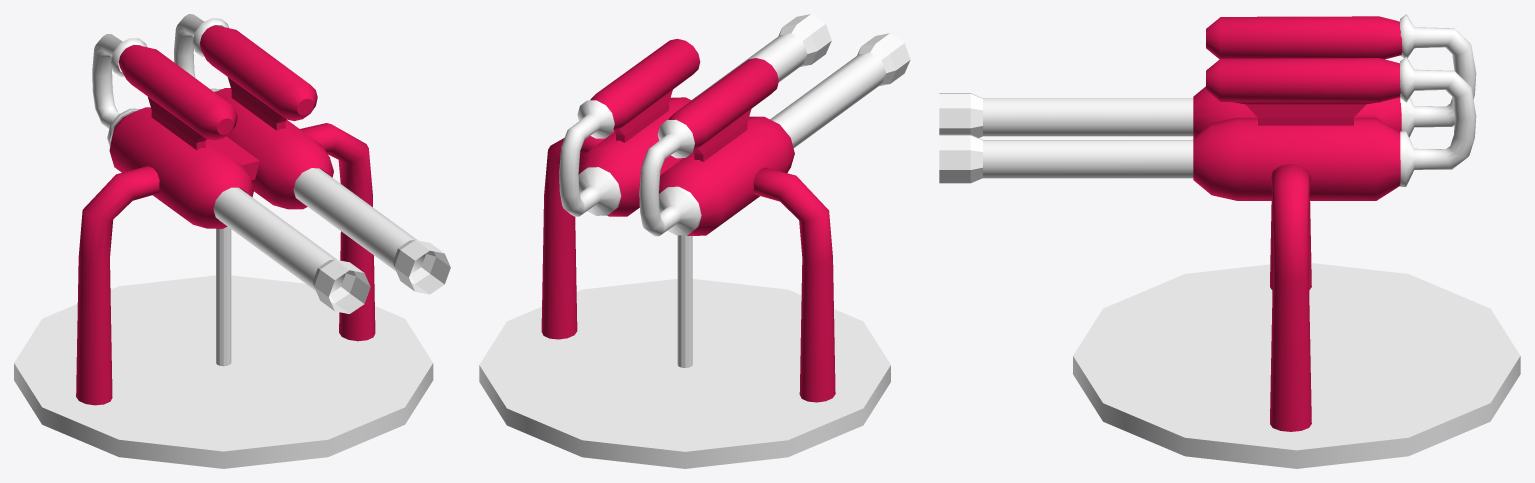
Rendered from Cindi Launcher.FBX.
3 renders of one model, left to right at view 1: azimuth 30°, elevation 25°; view 2: azimuth 150°, elevation 25°; view 3: azimuth 270°, elevation 25°, orthographic. The views are drawn at different scales.
Visible parts, largest first — view 1: Cindi Launcher Stand, Cindi Airsoft, Airsoft Barrel, Ice Cream Tubes, Air Pipes; view 2: Cindi Launcher Stand, Cindi Airsoft, Ice Cream Tubes, Air Pipes, Airsoft Barrel; view 3: Cindi Launcher Stand, Cindi Airsoft, Airsoft Barrel, Ice Cream Tubes, Air Pipes.
Part boxes in pixels (box(x1,y1,x2,y2)): Cindi Launcher Stand: box(14, 226, 433, 468); Cindi Airsoft: box(109, 25, 333, 228); Airsoft Barrel: box(213, 168, 450, 313); Ice Cream Tubes: box(76, 123, 375, 405); Air Pipes: box(92, 14, 228, 147); Cindi Launcher Stand: box(479, 235, 890, 468); Cindi Airsoft: box(578, 38, 794, 235); Ice Cream Tubes: box(541, 130, 835, 402); Air Pipes: box(559, 100, 701, 236); Airsoft Barrel: box(691, 14, 910, 147); Cindi Launcher Stand: box(1073, 263, 1520, 468); Cindi Airsoft: box(1193, 16, 1402, 200); Airsoft Barrel: box(939, 93, 1193, 183); Ice Cream Tubes: box(1270, 164, 1311, 431); Air Pipes: box(1400, 14, 1476, 186).
Size of the model in its own units: 109 by 90.26 by 141.
